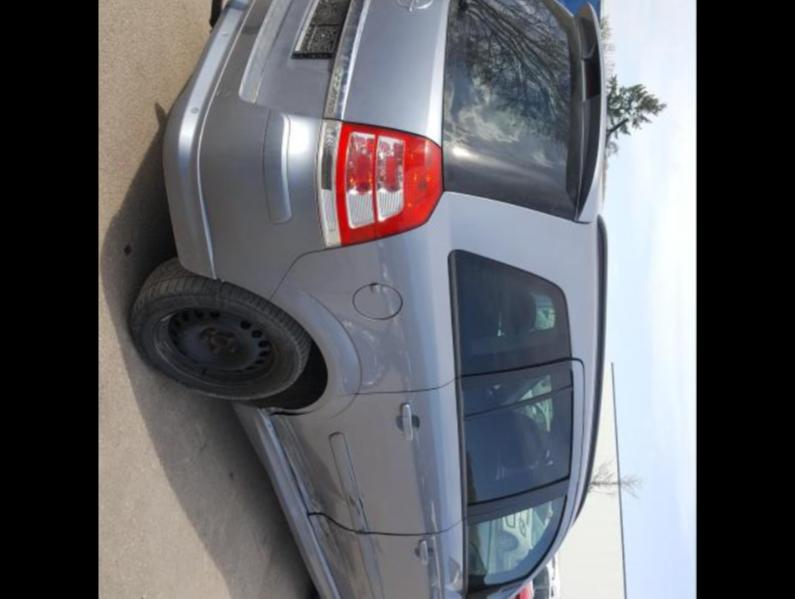Broken part: (266, 409, 314, 419)
Dent: (261, 406, 379, 599)
Missing part: (298, 0, 351, 55)
Paint chip: (348, 496, 360, 513)
Scratch: (284, 440, 299, 479), (317, 517, 331, 550), (359, 490, 366, 511), (357, 494, 364, 514)
